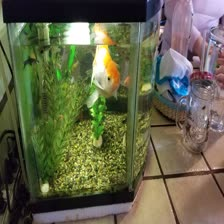Cuezo: (83, 41, 118, 106)
Guppy: (20, 55, 38, 67)
